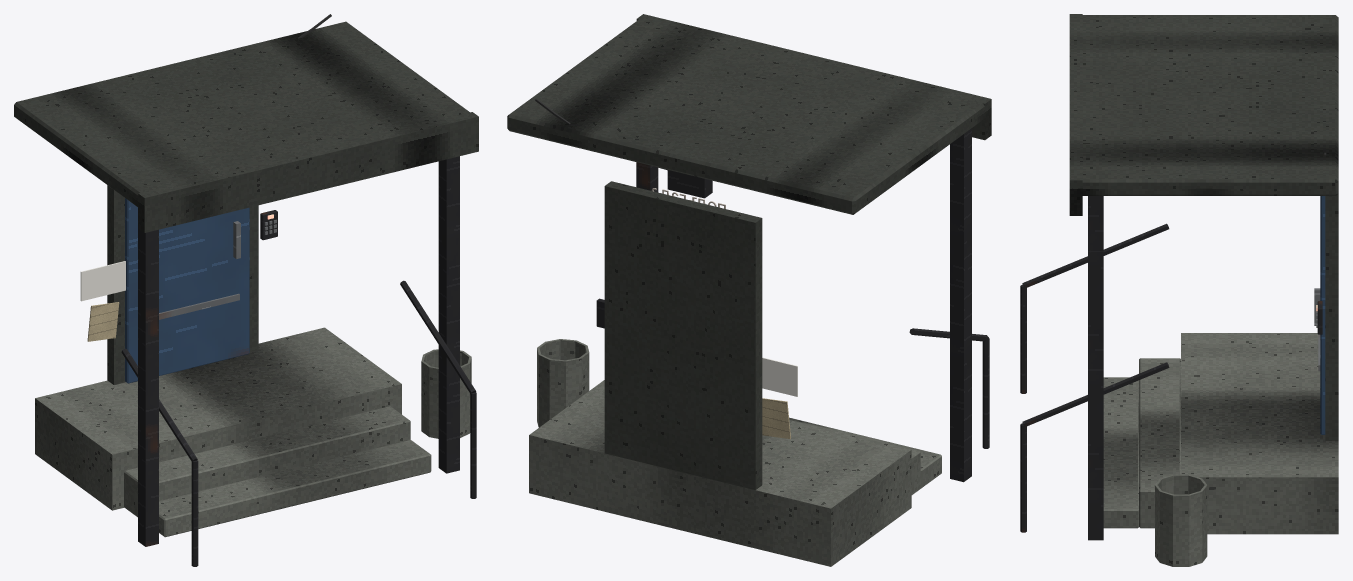
The model's file is panel_entrance.glb.
3 views of the same model, side by side, from view 1: azimuth 30°, elevation 25°; view 2: azimuth 150°, elevation 25°; view 3: azimuth 270°, elevation 25° (orthographic). The views are drawn at different scales.
Parts seen in each view (by area): view 1: panel_entrance; view 2: panel_entrance; view 3: panel_entrance.
Part boxes in pixels (<box>): panel_entrance: <box>14,14,478,566</box>; panel_entrance: <box>507,14,991,566</box>; panel_entrance: <box>1020,14,1338,566</box>.
Size of what is drawn, in the model's own units: 3.39 by 3.21 by 2.43.
11 materials, 7 textured.
